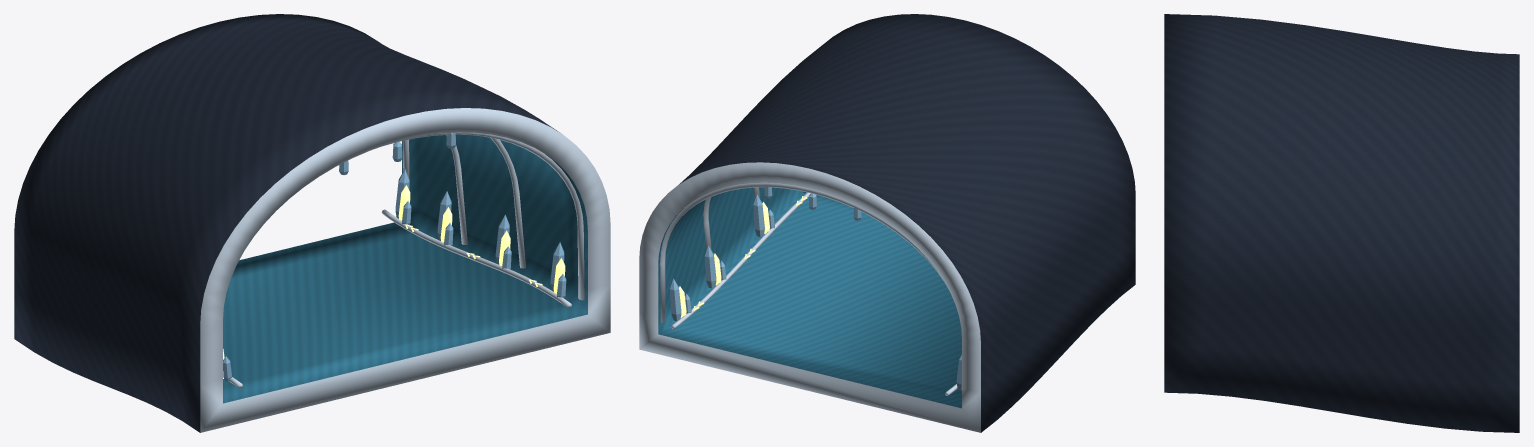
The model's file is grade_down.glb.
The picture shows the model from 3 angles, left to right: view 1: azimuth 30°, elevation 25°; view 2: azimuth 150°, elevation 25°; view 3: azimuth 270°, elevation 25°; orthographic projection. The views are drawn at different scales.
Visible parts, largest first — view 1: TunnelGeometry; view 2: TunnelGeometry; view 3: TunnelGeometry.
Boxes of the visible parts, left/top/right/bottom form: TunnelGeometry: left=14, top=14, right=610, bottom=432; TunnelGeometry: left=639, top=14, right=1135, bottom=432; TunnelGeometry: left=1164, top=14, right=1519, bottom=432.
Size of the model in its own units: 15.3 by 11.02 by 12.
5 materials, 2 textured.
